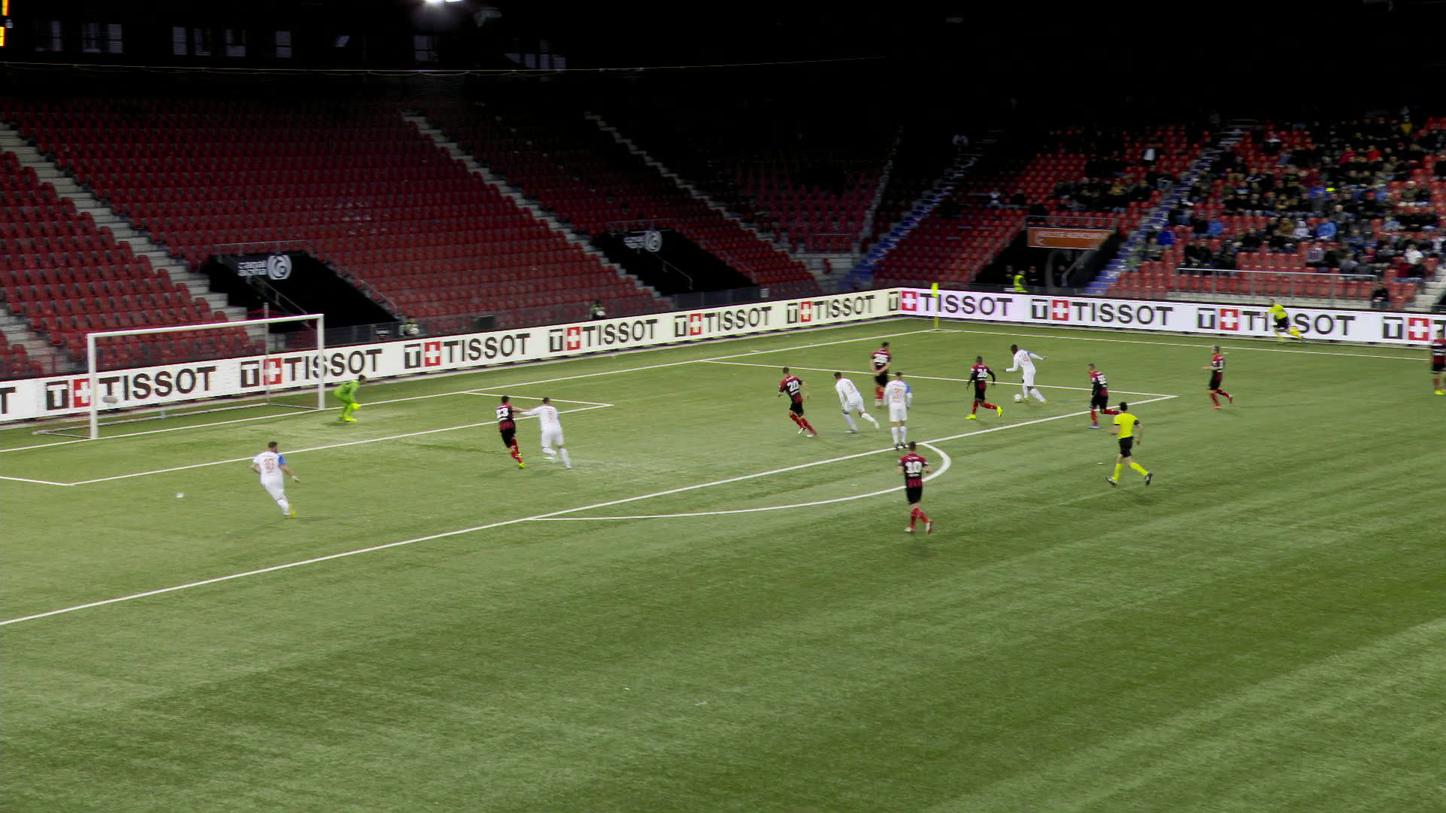ball: (1014, 393, 1022, 400)
player: (245, 440, 294, 523), (519, 396, 571, 468), (890, 439, 926, 537), (831, 370, 880, 432), (489, 394, 526, 467), (962, 354, 1000, 418), (1078, 361, 1114, 428), (1002, 346, 1042, 406), (1196, 345, 1231, 410), (774, 367, 807, 435), (883, 371, 911, 449), (861, 342, 885, 407), (327, 373, 359, 420), (1425, 329, 1445, 394)
referee: (1100, 399, 1146, 486), (1250, 297, 1298, 344)
